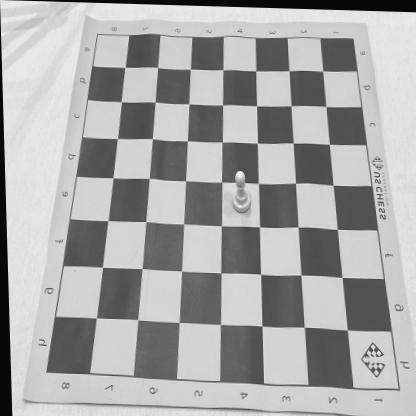white-pawn: (230, 169, 251, 213)
